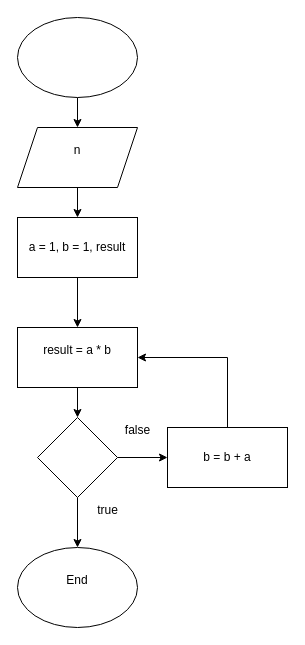
The diagram is 305 pixels wide and 645 high, and some of its shapes have lost their labels. The centre of each missing label's shape, as x and y in pixels:
b = n: (x=77, y=457)
Begin: (x=77, y=57)
